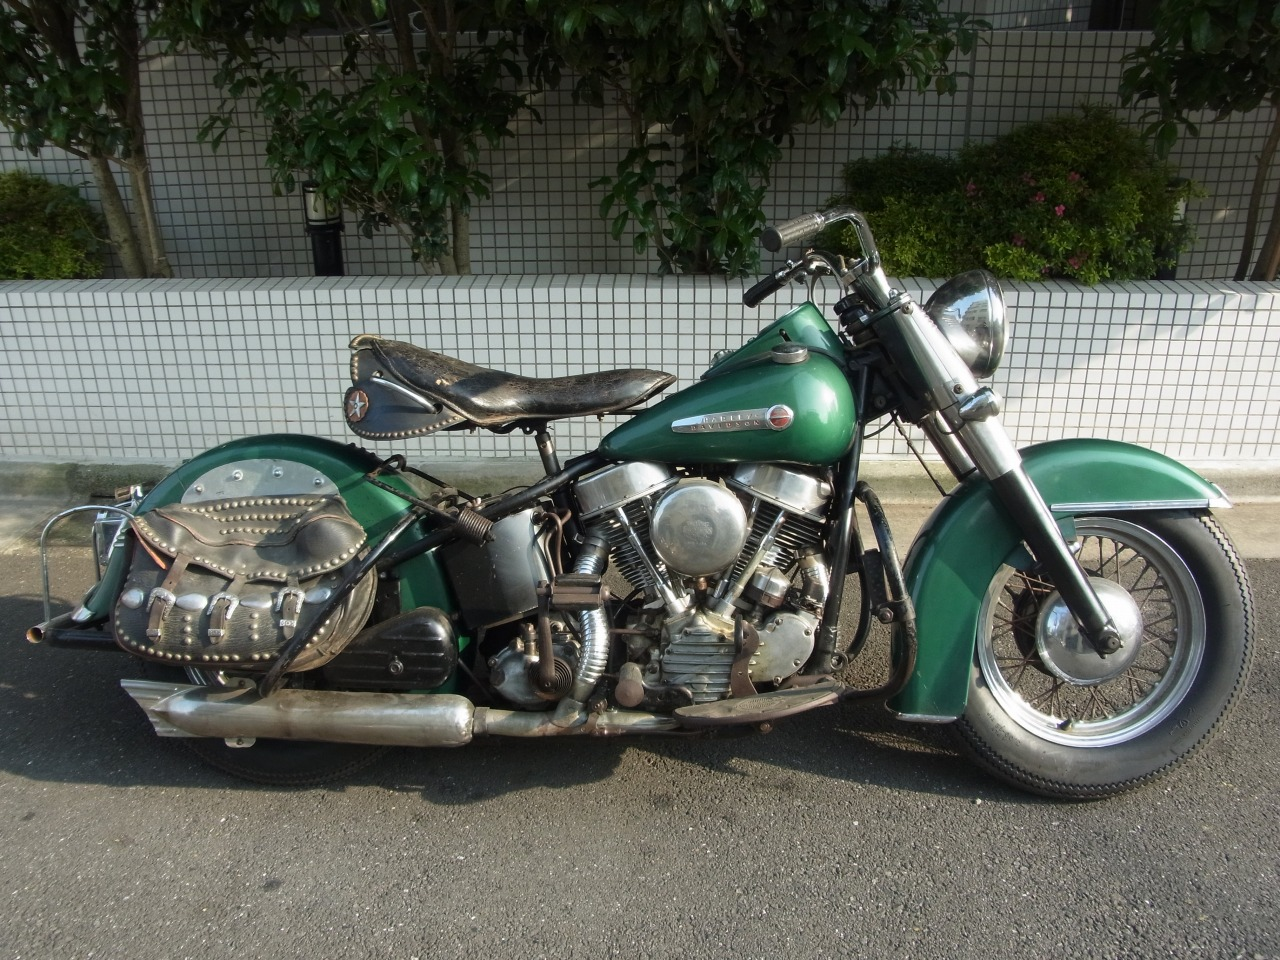motorbike: (25, 167, 1274, 837)
